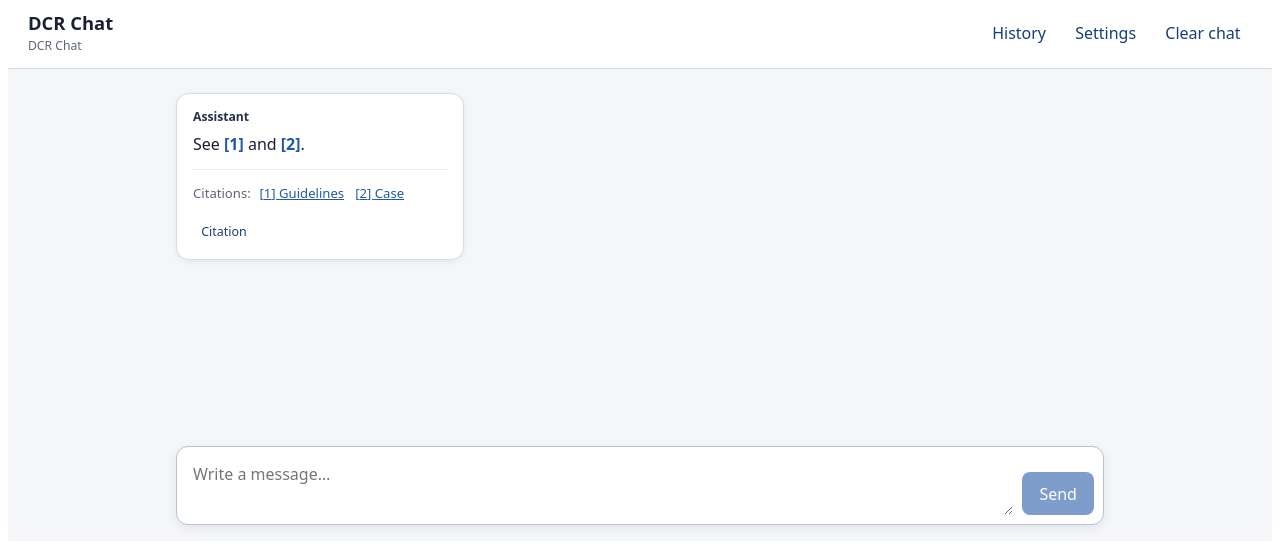
Scenario: ChatApp › renders source markers as numbered links that open the citation panel
The image size is (1280, 558).
Check: the element with class "dcrChat__markdown" reads "See [1] and [2] .", box [193, 133, 305, 155]
Check: the element with class "dcrChat__markdown" does not show "guidelines.pdf"
Click the link "[1]". click: (234, 144)
box: [224, 133, 244, 155]
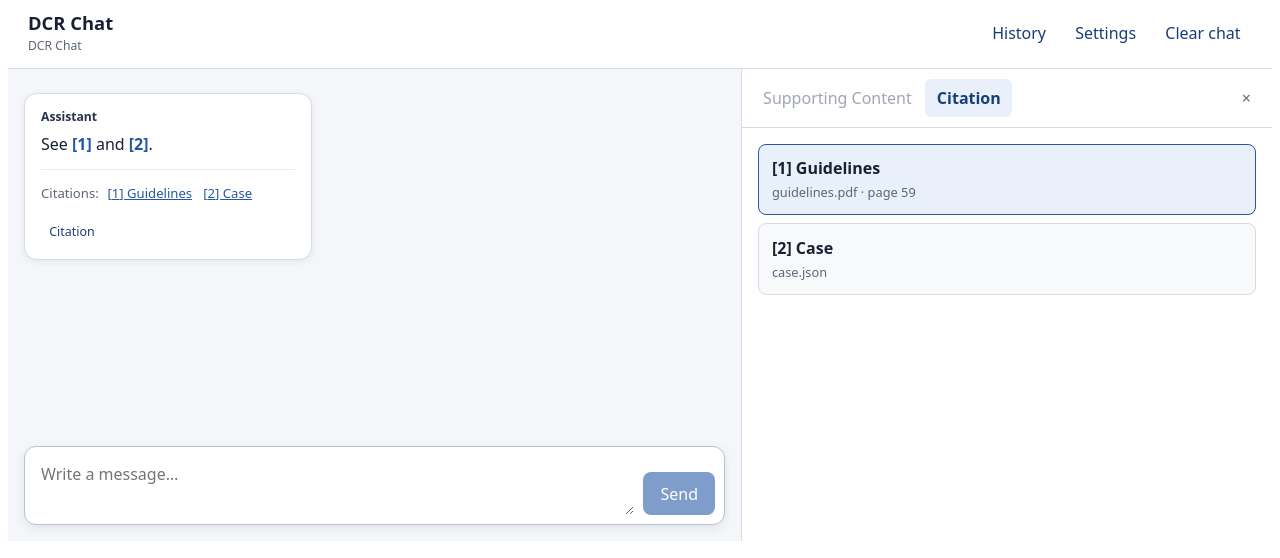
Check: the panel is shown, box [758, 144, 1256, 295]
